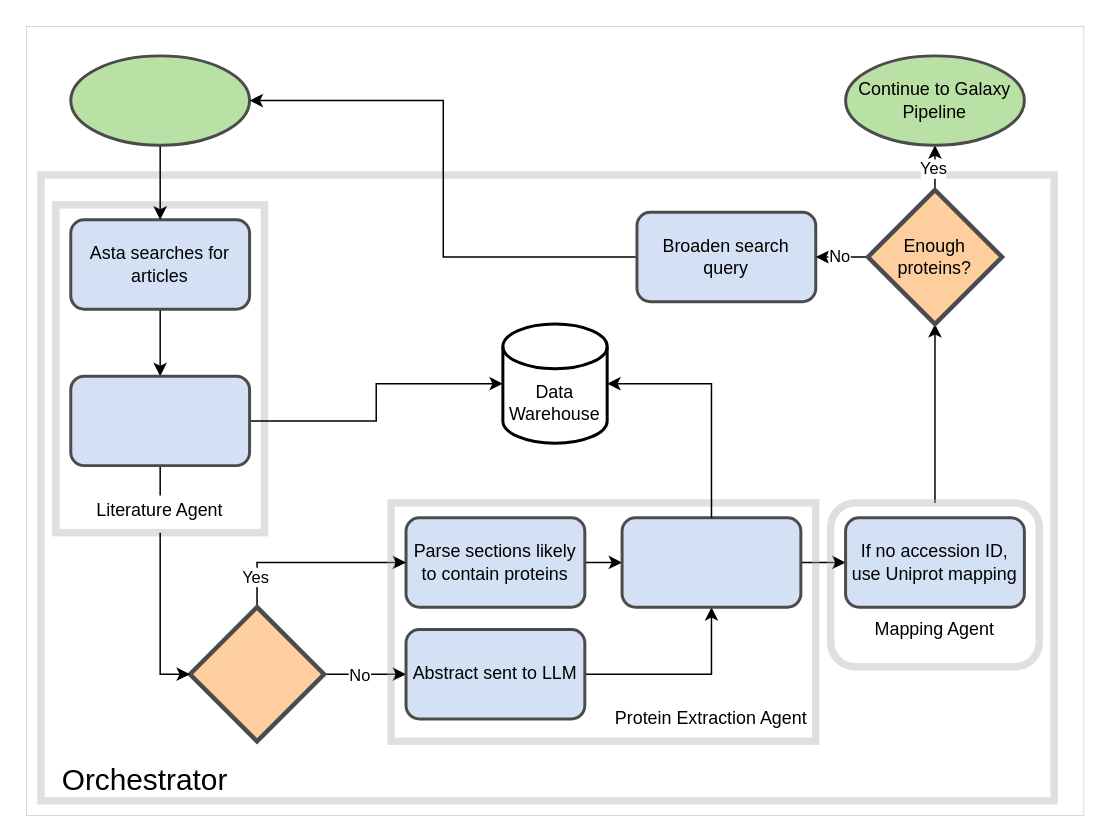
Image size: 1109x840. Some labels were removed from this diagram. The shapes that lost their labels are listed below. From the top down, each one's centre as x and y in pixels, then its label:
At (x=159, y=100): "Natural language query".
At (x=159, y=420): "Retrieve articles + reflection step".
At (x=711, y=562): "Use NER to extract proteins + accession ID".
At (x=256, y=673): "Has Open Access?".
